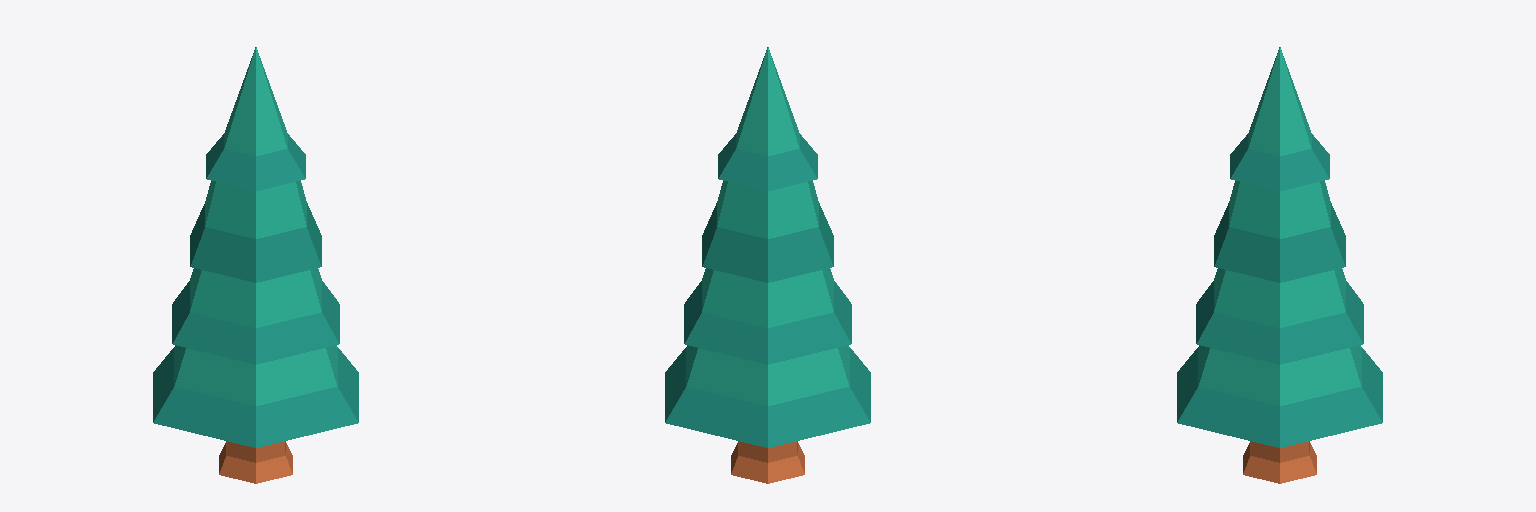
Rendered from pine.obj.
The picture shows the model from 3 angles: view 1: azimuth 30°, elevation 25°; view 2: azimuth 150°, elevation 25°; view 3: azimuth 270°, elevation 25°; orthographic projection.
Visible parts, largest first — view 1: pine; view 2: pine; view 3: pine.
Boxes of the visible parts, x1,y1,x2,y2 form: pine: [153, 47, 358, 483]; pine: [665, 47, 870, 483]; pine: [1177, 47, 1382, 483].
Size of the model in its own units: 1.18 by 2.29 by 1.02.